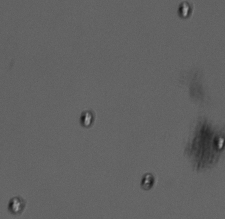Dead Cell: (140, 173, 155, 190), (212, 134, 224, 152)
Living Cell: (7, 195, 26, 215), (77, 110, 96, 128), (177, 2, 192, 20)
